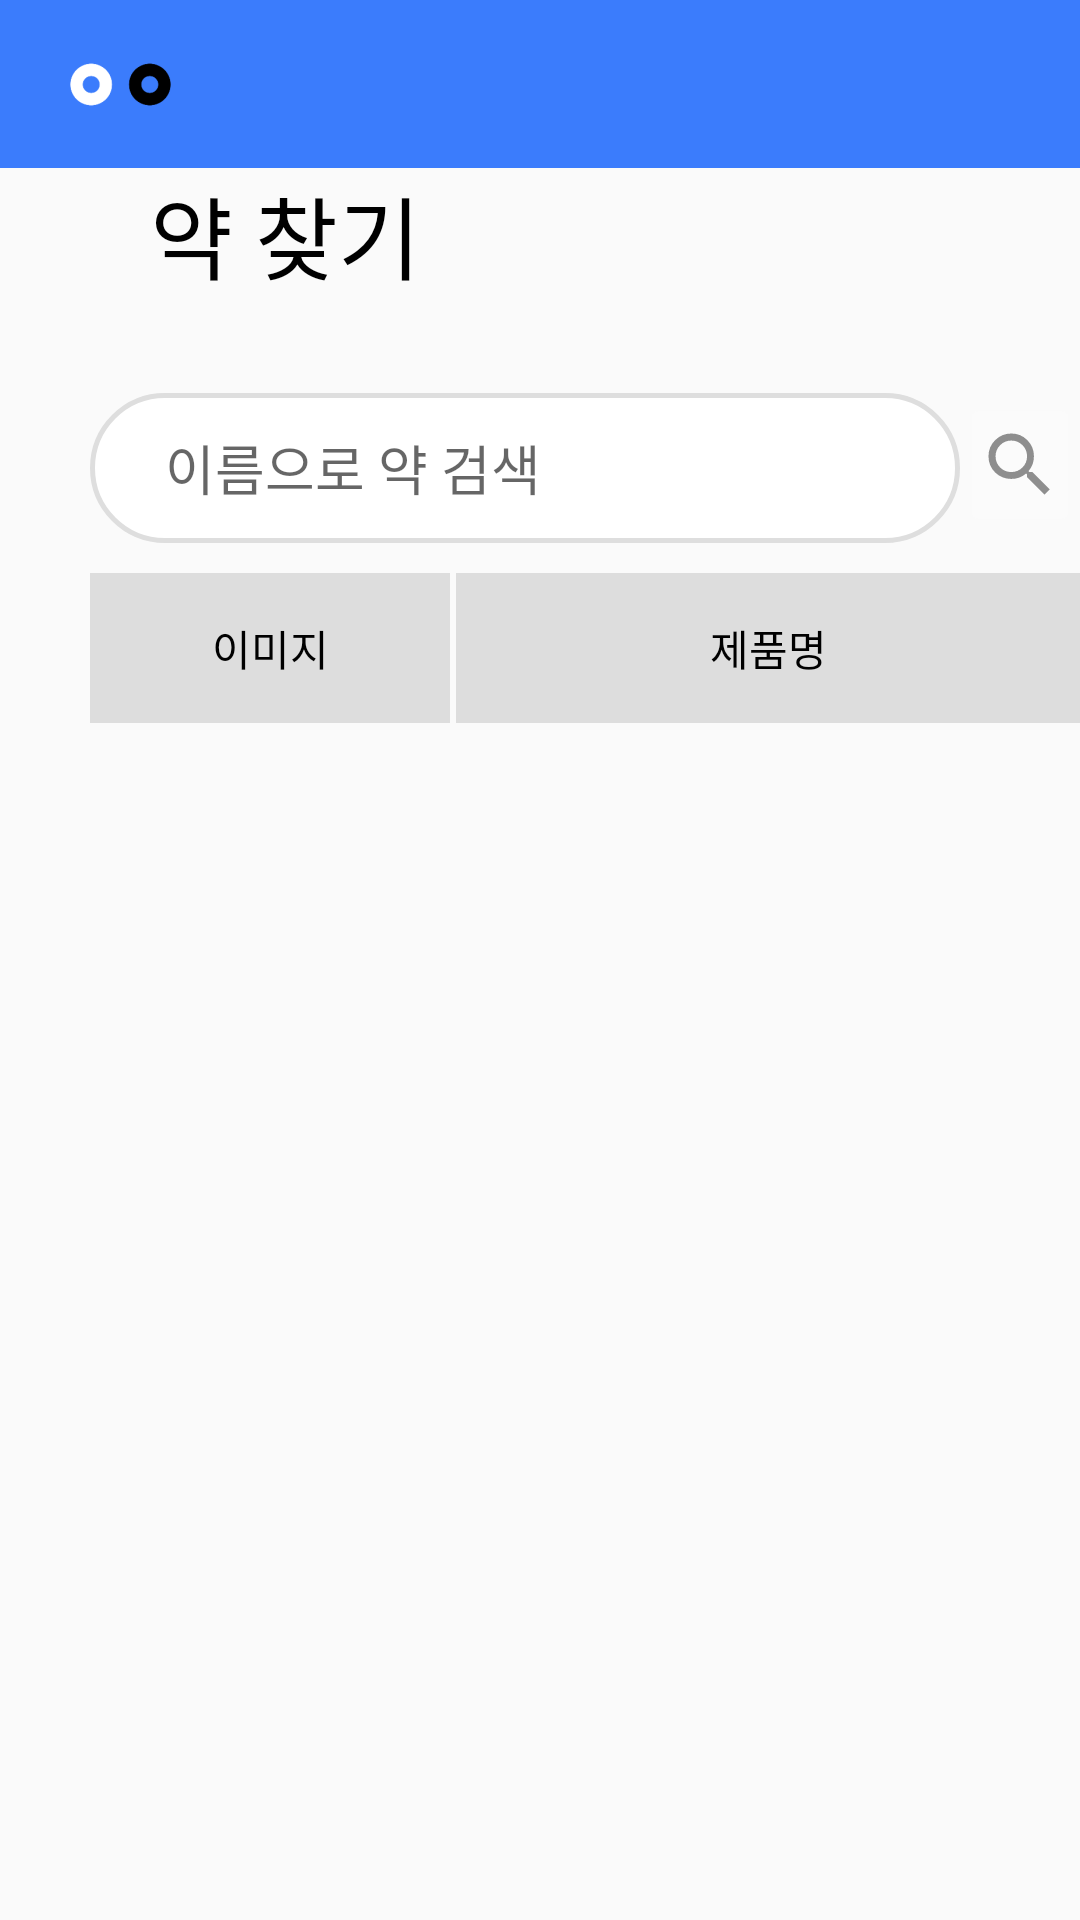

Icon bounding boxes for this 1080×1920 phone screenshot, format [x1, y1, x2, y2]:
search: [988, 433, 1050, 495]
